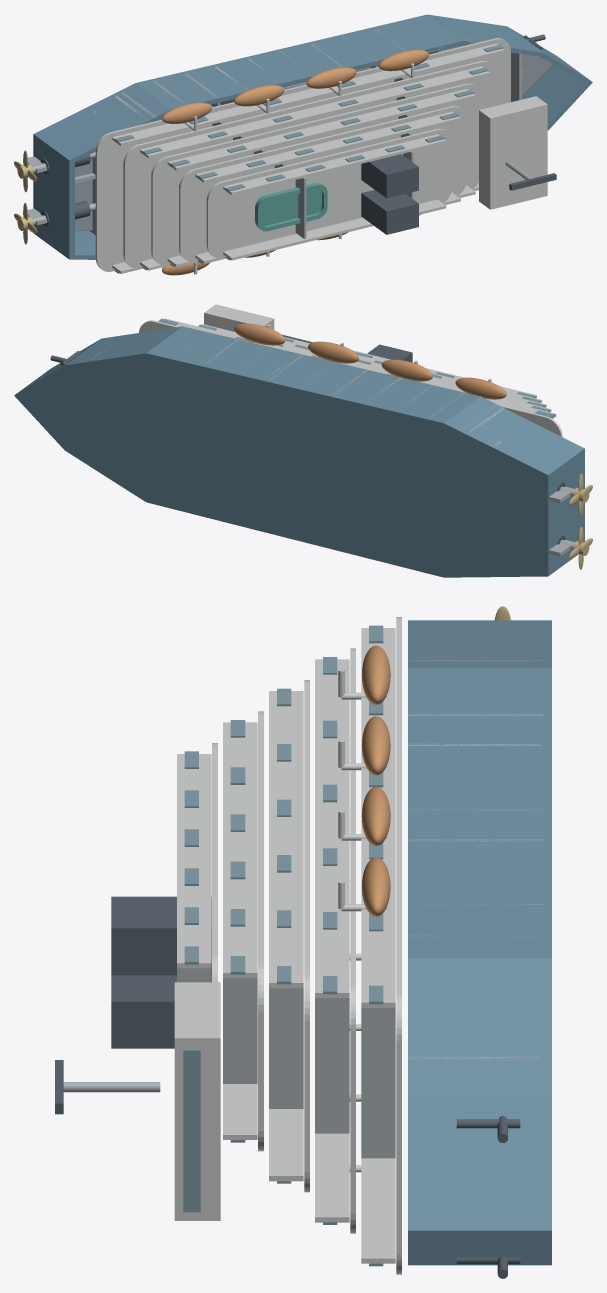
Rendered from assembly.glb.
3 renders of one model, top to bottom at view 1: azimuth 30°, elevation 25°; view 2: azimuth 150°, elevation 25°; view 3: azimuth 270°, elevation 25°, orthographic. The views are drawn at different scales.
Parts seen in each view (by area): view 1: part-001, part-090, part-039, part-022, part-056, part-107, part-073, part-000, part-047, part-030, part-064, part-081 (+14 smaller); view 2: part-001, part-000, part-107, part-030, part-022, part-169, part-167, part-165, part-163, part-047, part-113; view 3: part-001, part-047, part-064, part-107, part-081, part-030, part-098, part-113, part-038, part-000, part-055, part-112 (+17 smaller).
Part boxes in pixels (box(x1,y1,x2,y2)): part-001: box(33, 14, 592, 209); part-090: box(206, 128, 452, 258); part-039: box(123, 60, 496, 268); part-022: box(95, 38, 510, 271); part-056: box(151, 83, 481, 265); part-107: box(479, 96, 547, 209); part-073: box(179, 106, 466, 261); part-000: box(33, 64, 592, 259); part-047: box(140, 66, 490, 158); part-030: box(112, 43, 504, 145); part-064: box(167, 89, 475, 170); part-081: box(195, 111, 460, 182); part-001: box(14, 326, 584, 525); part-000: box(14, 395, 584, 577); part-107: box(204, 304, 274, 331); part-030: box(164, 318, 556, 418); part-022: box(139, 320, 562, 436); part-169: box(234, 323, 285, 345); part-167: box(308, 341, 359, 363); part-165: box(381, 359, 432, 381); part-163: box(455, 377, 506, 399); part-047: box(202, 324, 551, 412); part-113: box(367, 344, 412, 362); part-001: box(408, 620, 551, 1230); part-047: box(315, 659, 349, 997); part-064: box(269, 691, 303, 988); part-107: box(174, 982, 220, 1220); part-081: box(223, 722, 257, 978); part-030: box(361, 628, 395, 1007); part-098: box(177, 754, 211, 968); part-113: box(111, 896, 211, 975); part-038: box(361, 1008, 395, 1158); part-000: box(408, 1230, 551, 1265); part-055: box(315, 998, 349, 1133); part-112: box(111, 975, 211, 1048).
Size of the model in its own units: 0.22 by 0.0645 by 0.0862.
